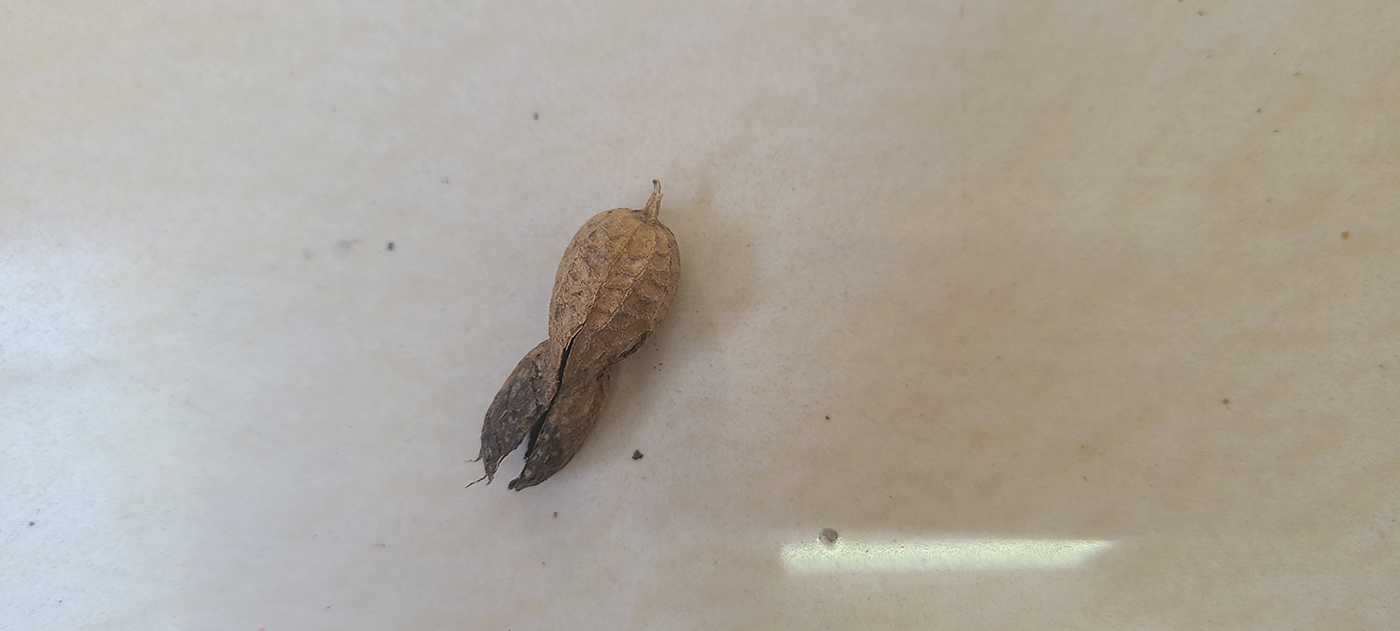l: (469, 209, 686, 492)
